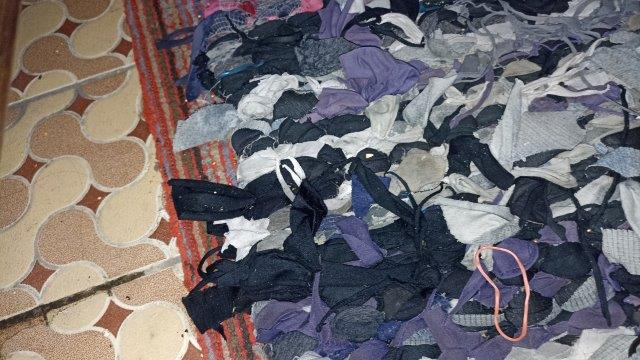karet: (475, 245, 530, 342)
